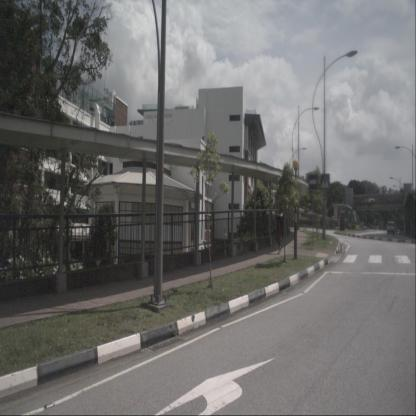human-pedestrian-adult: (274, 201, 284, 254)
vehicle-car: (387, 221, 395, 235)
